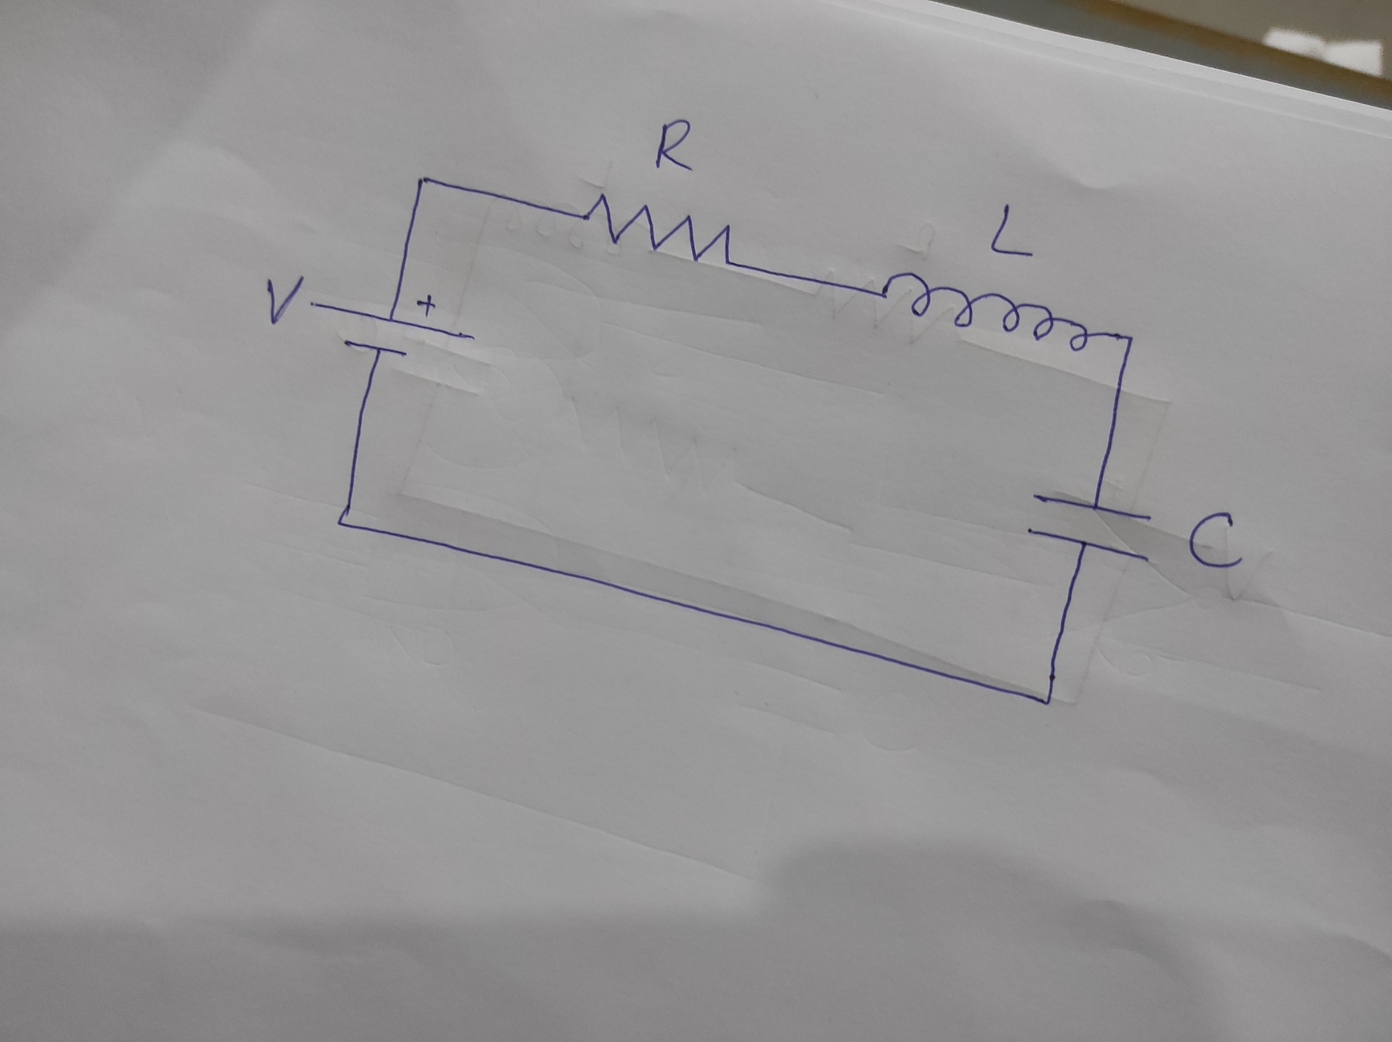capacitor.unpolarized: (1025, 488, 1155, 568)
inductor: (879, 268, 1110, 354)
junction: (1035, 688, 1062, 713), (330, 508, 353, 535), (411, 169, 436, 193), (1120, 328, 1138, 351)
resistor: (580, 190, 734, 268)
text: (1187, 508, 1246, 574), (987, 201, 1037, 260), (652, 116, 695, 174), (263, 273, 308, 327)
voltage.dc: (309, 292, 478, 359)
